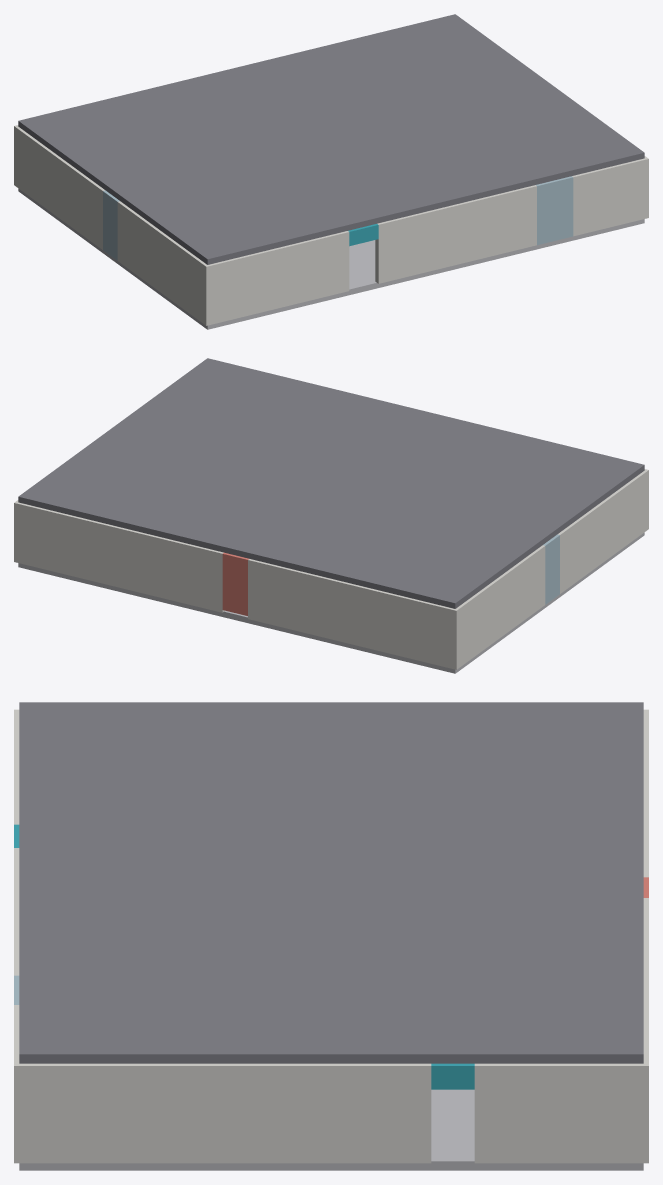
The model's file is pharmacy_a01.glb.
3 renders of one model, top to bottom at view 1: azimuth 30°, elevation 25°; view 2: azimuth 150°, elevation 25°; view 3: azimuth 270°, elevation 25°, orthographic. The views are drawn at different scales.
Parts seen in each view (by area): view 1: slab_1_t0_0, slab_1_t0_4, slab_1_t0_1, slab_1_t0_2, slab_1_t0_3, slab_1_t2_0, slab_1_t1_0, slab_1_t3_0, slab_1_t2_2, slab_1_t1_1, slab_1_t1_3, slab_1_t2_3 (+36 smaller); view 2: slab_1_t3_0, slab_1_t3_4, slab_1_t3_1, slab_1_t3_2, slab_1_t3_3, slab_1_t1_0, slab_1_t0_0, slab_1_t2_0, slab_1_t1_2, slab_1_t0_2, slab_1_t1_3, slab_1_t2_1 (+33 smaller); view 3: slab_1_t0_4, slab_1_t1_4, slab_1_t2_4, slab_1_t3_4, slab_1_t0_0, slab_1_t0_2, slab_1_t1_0, slab_1_t1_1, slab_1_t1_2, slab_1_t1_3, slab_1_t2_0, slab_1_t2_2 (+24 smaller).
Part boxes in pixels (x1=…): slab_1_t0_0: x1=160, y1=203, x2=294, y2=264; slab_1_t0_4: x1=510, y1=118, x2=644, y2=179; slab_1_t0_1: x1=248, y1=182, x2=382, y2=243; slab_1_t0_2: x1=335, y1=160, x2=469, y2=222; slab_1_t0_3: x1=423, y1=139, x2=557, y2=200; slab_1_t2_0: x1=65, y1=134, x2=199, y2=195; slab_1_t1_0: x1=113, y1=168, x2=246, y2=229; slab_1_t3_0: x1=18, y1=99, x2=152, y2=160; slab_1_t2_2: x1=241, y1=91, x2=374, y2=147; slab_1_t1_1: x1=201, y1=147, x2=334, y2=203; slab_1_t1_3: x1=375, y1=105, x2=509, y2=160; slab_1_t2_3: x1=328, y1=70, x2=462, y2=125; slab_1_t3_0: x1=368, y1=547, x2=502, y2=608; slab_1_t3_4: x1=18, y1=462, x2=152, y2=523; slab_1_t3_1: x1=280, y1=526, x2=414, y2=587; slab_1_t3_2: x1=193, y1=504, x2=327, y2=566; slab_1_t3_3: x1=105, y1=483, x2=239, y2=544; slab_1_t1_0: x1=463, y1=478, x2=597, y2=539; slab_1_t0_0: x1=510, y1=443, x2=644, y2=504; slab_1_t2_0: x1=416, y1=512, x2=549, y2=573; slab_1_t1_2: x1=288, y1=435, x2=421, y2=491; slab_1_t0_2: x1=335, y1=401, x2=469, y2=456; slab_1_t1_3: x1=200, y1=414, x2=334, y2=469; slab_1_t2_1: x1=328, y1=491, x2=461, y2=547; slab_1_t0_4: x1=19, y1=984, x2=175, y2=1063; slab_1_t1_4: x1=175, y1=984, x2=331, y2=1063; slab_1_t2_4: x1=331, y1=984, x2=487, y2=1063; slab_1_t3_4: x1=487, y1=984, x2=643, y2=1063; slab_1_t0_0: x1=19, y1=702, x2=175, y2=772; slab_1_t0_2: x1=19, y1=843, x2=175, y2=913; slab_1_t1_0: x1=175, y1=702, x2=331, y2=772; slab_1_t1_1: x1=175, y1=772, x2=331, y2=842; slab_1_t1_2: x1=175, y1=843, x2=331, y2=913; slab_1_t1_3: x1=175, y1=913, x2=331, y2=983; slab_1_t2_0: x1=331, y1=702, x2=487, y2=772; slab_1_t2_2: x1=331, y1=843, x2=487, y2=913.
Size of what is drawn, in the model's own units: 24.3 by 3.7 by 18.3.
